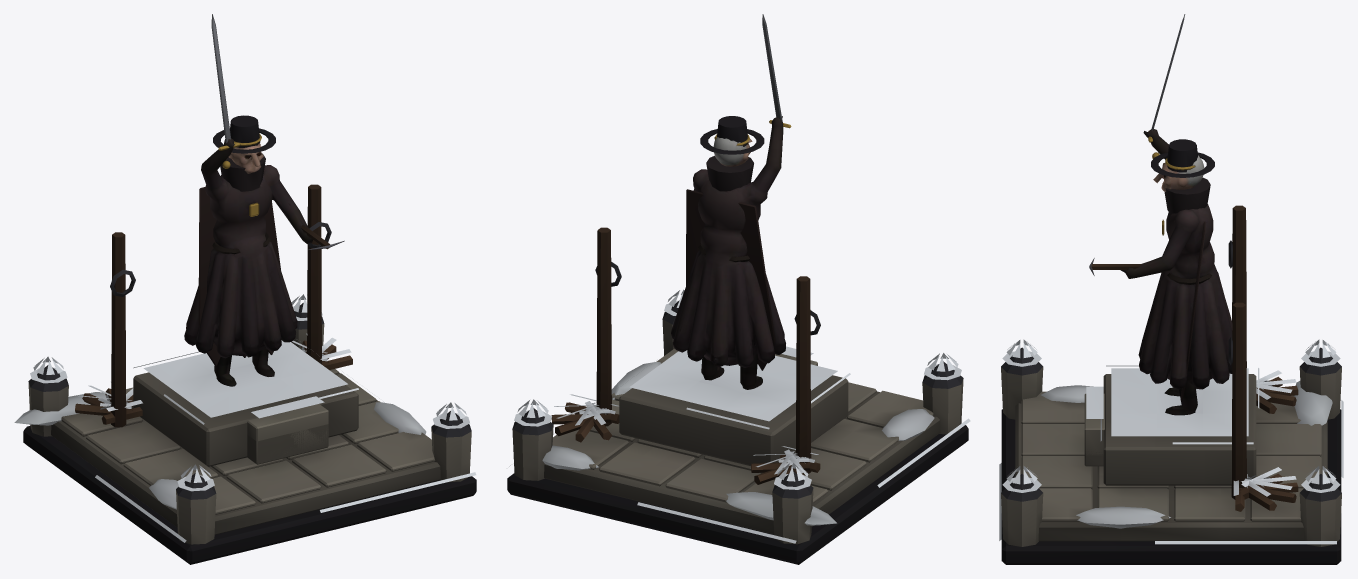
Rendered from alliance-8.glb.
The picture shows the model from 3 angles, left to right: view 1: azimuth 30°, elevation 25°; view 2: azimuth 150°, elevation 25°; view 3: azimuth 270°, elevation 25°; orthographic projection.
Parts seen in each view (by area): view 1: aubeval_8_architecture, aubeval_8_inq, aubeval_8_inq_accessoires; view 2: aubeval_8_architecture, aubeval_8_inq, aubeval_8_inq_accessoires; view 3: aubeval_8_architecture, aubeval_8_inq, aubeval_8_inq_accessoires.
Boxes of the visible parts, <box> form: aubeval_8_architecture: <box>14,184,476,564</box>; aubeval_8_inq: <box>184,138,312,386</box>; aubeval_8_inq_accessoires: <box>198,14,344,366</box>; aubeval_8_architecture: <box>507,227,970,564</box>; aubeval_8_inq: <box>671,116,785,389</box>; aubeval_8_inq_accessoires: <box>686,14,791,370</box>; aubeval_8_architecture: <box>999,205,1343,564</box>; aubeval_8_inq: <box>1120,129,1232,415</box>; aubeval_8_inq_accessoires: <box>1089,14,1214,400</box>.
Bounding box in the file's own units: 0.8655 × 1.21 × 0.811.
Materials: 2 (1 with a texture image).
